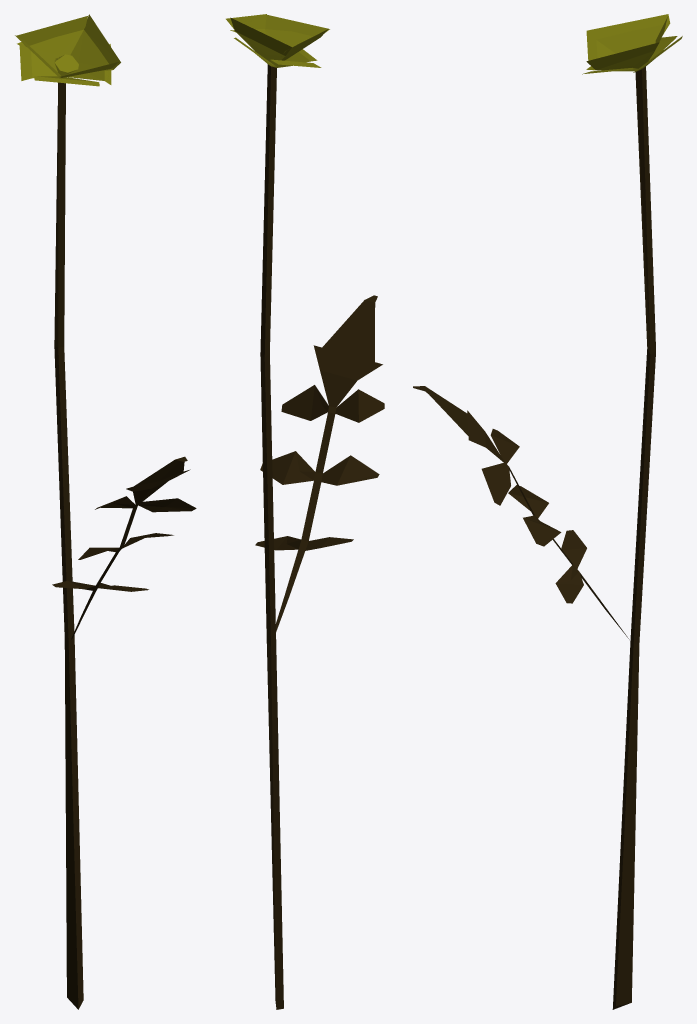
Rendered from flowerValmue01.fbx.
3 views of the same model, side by side, from view 1: azimuth 30°, elevation 25°; view 2: azimuth 150°, elevation 25°; view 3: azimuth 270°, elevation 25° (orthographic). The views are drawn at different scales.
Parts seen in each view (by area): view 1: Cylinder; view 2: Cylinder; view 3: Cylinder.
Boxes of the visible parts, box(x1,y1,x2,y2) form: Cylinder: box(15, 14, 196, 1009); Cylinder: box(226, 14, 384, 1009); Cylinder: box(413, 14, 682, 1009).
Bounding box in the file's own units: 0.0753 × 0.6529 × 0.1621.
